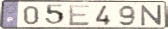0: (22, 5, 41, 26)
4: (94, 4, 113, 27)
5: (45, 4, 66, 27)
9: (118, 4, 138, 27)
E: (68, 4, 92, 27)
N: (140, 4, 163, 27)
